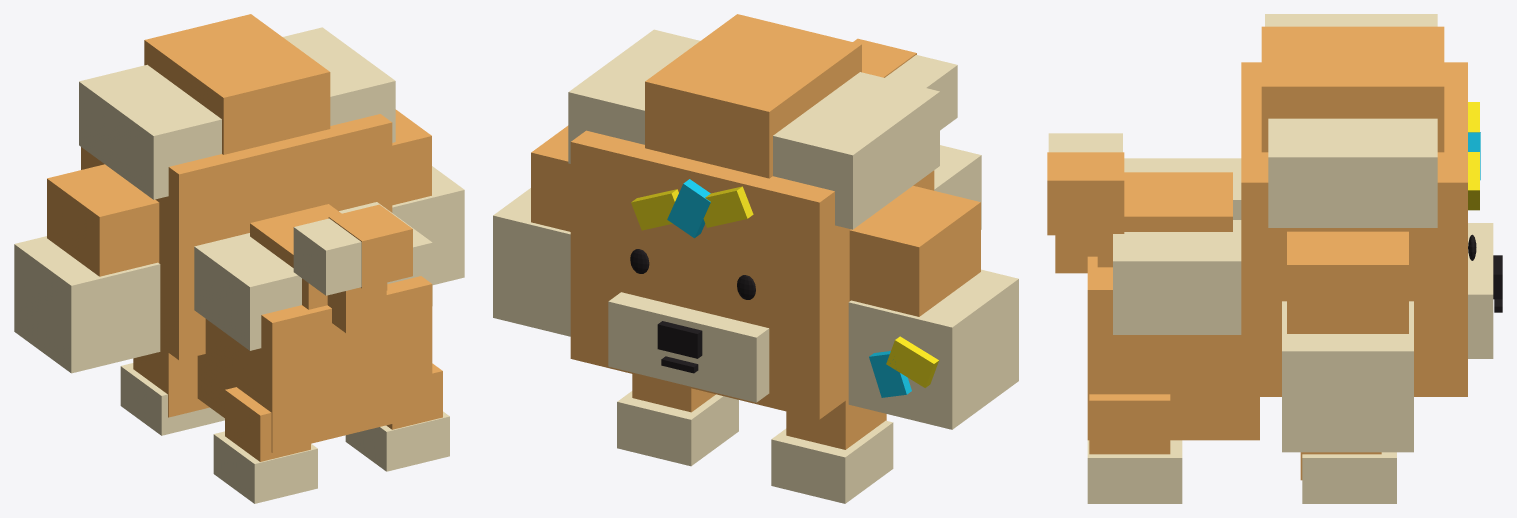
File: Poodle_Block.gltf
3 views of the same model, side by side, from view 1: azimuth 30°, elevation 25°; view 2: azimuth 150°, elevation 25°; view 3: azimuth 270°, elevation 25° (orthographic). The views are drawn at different scales.
Visible parts, largest first — view 1: CompactTorso, CoreHead, BroadHeadPuffC, LargeEarPuffL, BroadHeadPuffL, SideEarBaseL, BodyPuffL, BroadHeadPuffR, LegBL_Paw, LargeEarPuffR, TailPuffL, TailPuffR (+9 smaller); view 2: CoreHead, BroadHeadPuffC, LargeEarPuffL, BroadHeadPuffL, SideEarBaseL, CreamMuzzle, LargeEarPuffR, BroadHeadPuffR, LegFL_Paw, LegFR_Paw, SideEarBaseR, LegFL_Leg (+10 smaller); view 3: CoreHead, BroadHeadPuffR, BroadHeadPuffC, LargeEarPuffR, CompactTorso, BodyPuffR, SideEarBaseR, BodyPuffC, TailPuffR, LegBR_Paw, LegBR_Leg, LegFR_Paw (+6 smaller).
Boxes of the visible parts, box(x1,y1,x2,y2) form: CompactTorso: box(197, 276, 432, 452); CoreHead: box(81, 114, 392, 360); BroadHeadPuffC: box(144, 14, 330, 154); LargeEarPuffL: box(14, 236, 160, 373); BroadHeadPuffL: box(79, 64, 221, 199); SideEarBaseL: box(47, 164, 159, 276); BodyPuffL: box(194, 233, 301, 350); BroadHeadPuffR: box(283, 27, 395, 142); LegBL_Paw: box(213, 431, 317, 503); LargeEarPuffR: box(392, 166, 464, 284); TailPuffL: box(293, 218, 361, 295); TailPuffR: box(328, 204, 412, 288); CoreHead: box(570, 130, 934, 419); BroadHeadPuffC: box(645, 14, 861, 178); LargeEarPuffL: box(848, 269, 1018, 429); BroadHeadPuffL: box(773, 72, 939, 229); SideEarBaseL: box(849, 185, 980, 316); CreamMuzzle: box(608, 292, 769, 402); LargeEarPuffR: box(493, 188, 570, 336); BroadHeadPuffR: box(568, 29, 699, 163); LegFL_Paw: box(771, 420, 893, 503); LegFR_Paw: box(617, 391, 738, 466); SideEarBaseR: box(531, 125, 570, 231); LegFL_Leg: box(786, 398, 886, 449); CoreHead: box(1241, 62, 1467, 396); BroadHeadPuffR: box(1268, 118, 1437, 227); BroadHeadPuffC: box(1261, 26, 1444, 152); LargeEarPuffR: box(1282, 301, 1413, 452); CompactTorso: box(1087, 256, 1259, 440); BodyPuffR: box(1113, 220, 1241, 334); SideEarBaseR: box(1287, 231, 1408, 333); BodyPuffC: box(1097, 172, 1232, 267); TailPuffR: box(1047, 152, 1124, 235); LegBR_Paw: box(1087, 440, 1182, 503); LegBR_Leg: box(1089, 394, 1170, 454); LegFR_Paw: box(1302, 452, 1396, 503).
Bounding box in the file's own units: 3.1 × 2.56 × 2.69.
